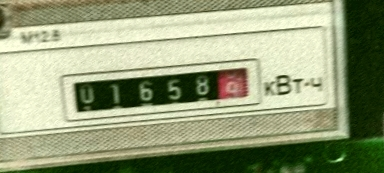0: (77, 84, 96, 107)
1: (107, 82, 123, 108)
5: (164, 78, 183, 104)
6: (136, 80, 156, 106)
8: (192, 75, 212, 99)
9: (222, 80, 240, 103)
screen: (56, 53, 267, 132)
